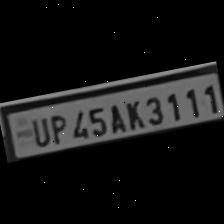1: (196, 80, 222, 116), (160, 88, 184, 123), (178, 84, 201, 120)
3: (140, 92, 166, 126)
4: (64, 106, 91, 142)
5: (83, 102, 110, 138)
A: (104, 100, 128, 136)
K: (120, 96, 148, 132)
P: (44, 110, 70, 146)
U: (25, 113, 51, 148)
